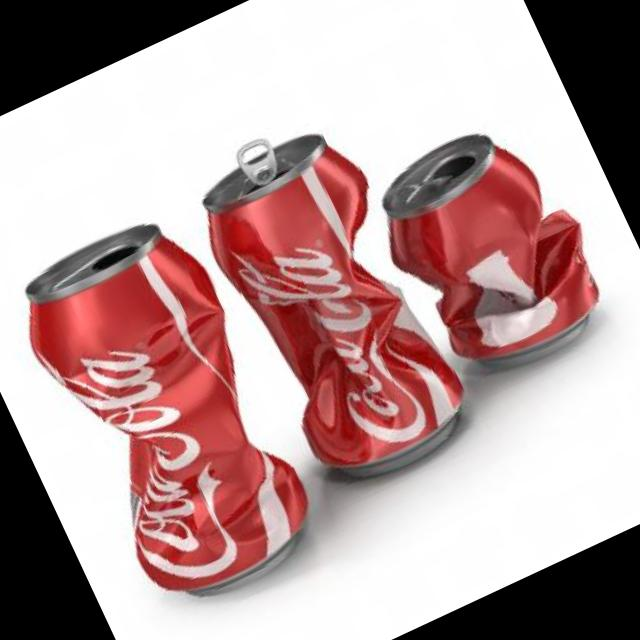Kaleng: (0, 200, 334, 624), (174, 102, 484, 502), (355, 105, 623, 396)
